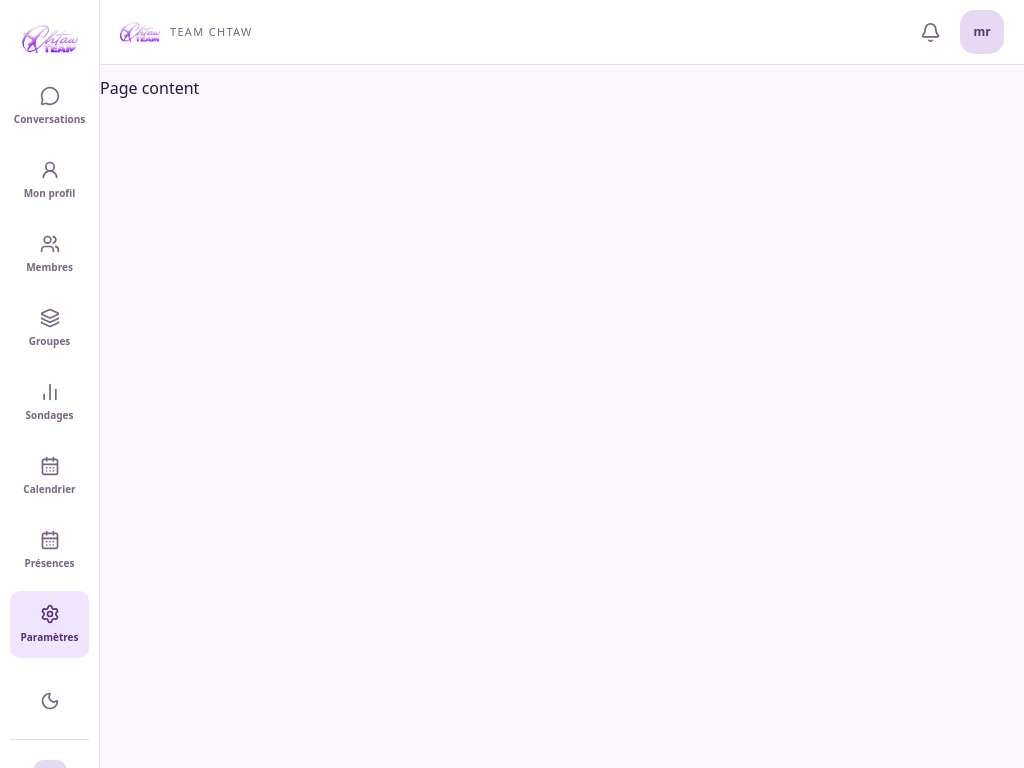
it: Notification center and compact header › keeps logo, bell and initials-only avatar for ADMIN
The image size is (1024, 768).
Expected: the button named "Notifications" is shown, [910, 12, 950, 52]
Click the heading "mr": (982,32) [960, 10, 1004, 54]
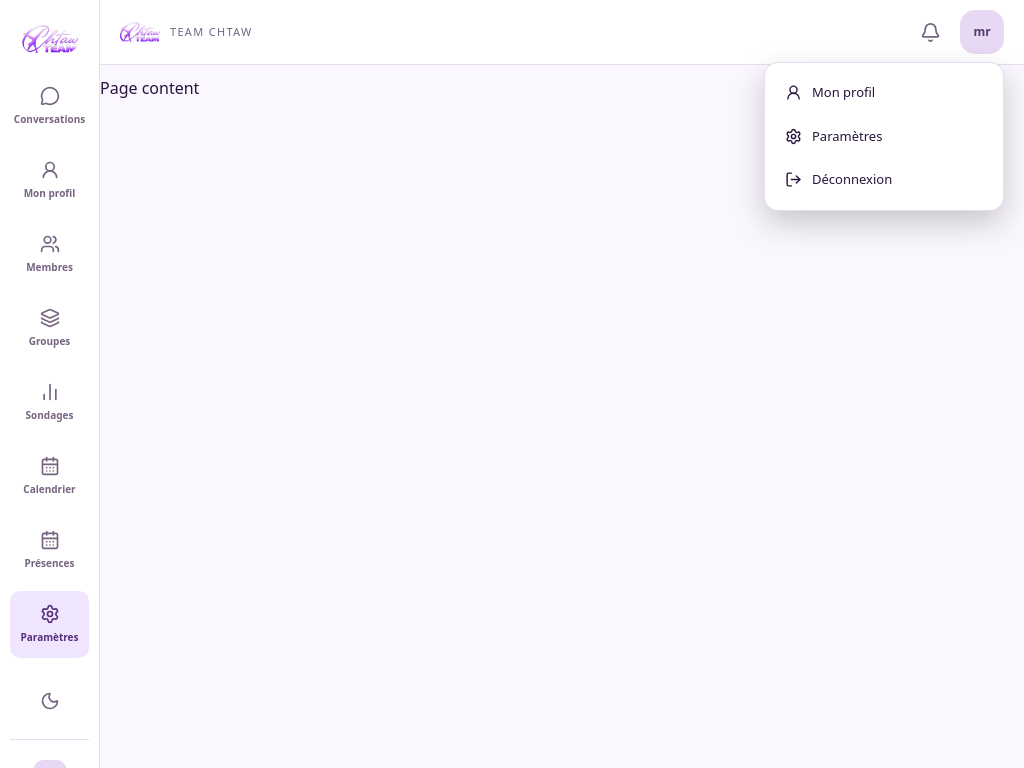
Now the button "Déconnexion" is shown, box [773, 158, 995, 202]
